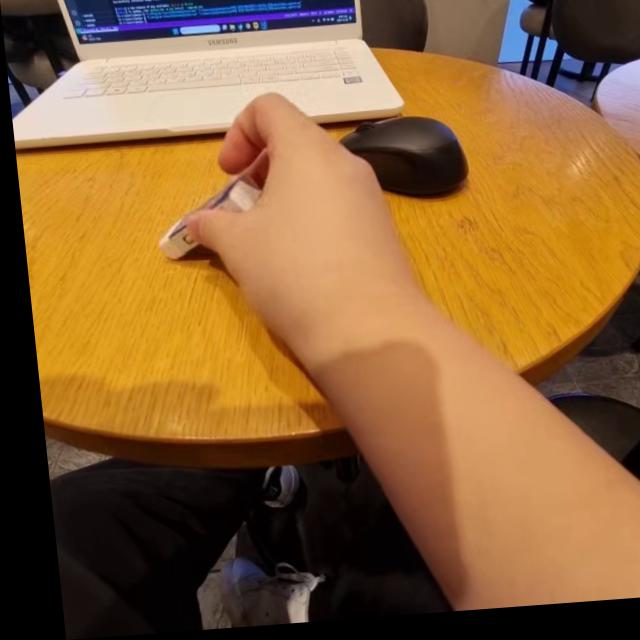grab_eraser: (149, 90, 401, 381)
mouse: (330, 112, 476, 221)
